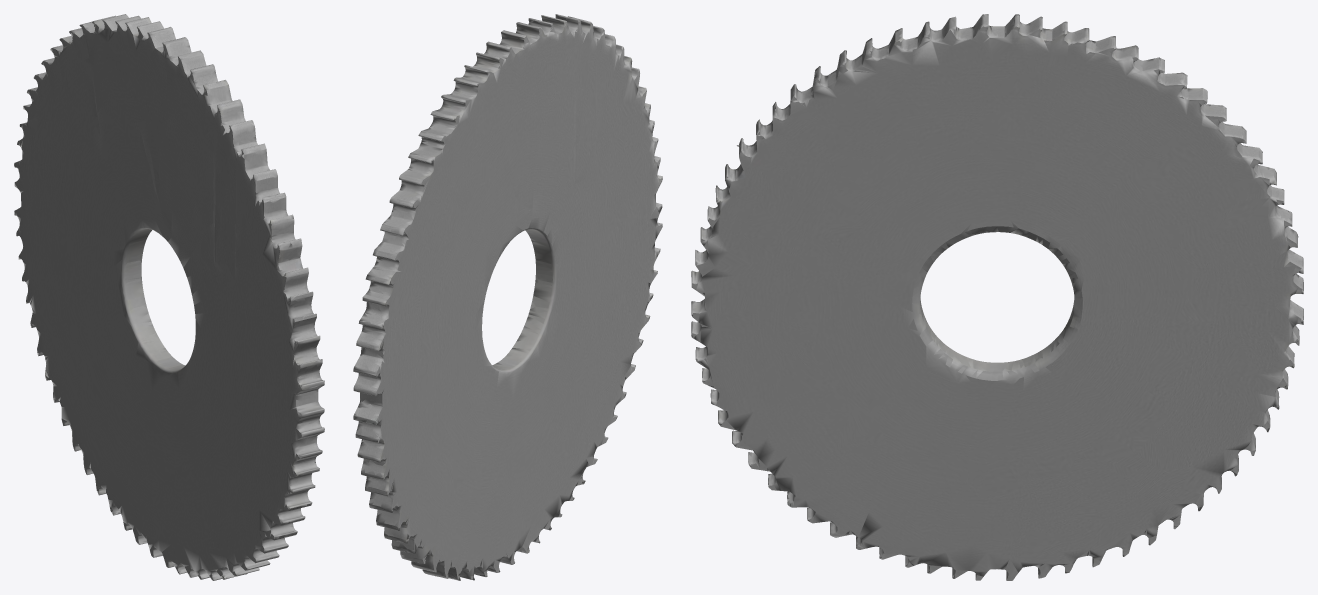
File: tool_151.obj
3 views of the same model, side by side, from view 1: azimuth 30°, elevation 25°; view 2: azimuth 150°, elevation 25°; view 3: azimuth 270°, elevation 25° (orthographic). The views are drawn at different scales.
Parts seen in each view (by area): view 1: tool_151_tripo_normalized; view 2: tool_151_tripo_normalized; view 3: tool_151_tripo_normalized.
Part boxes in pixels (left/top/right/bottom): tool_151_tripo_normalized: left=14, top=14, right=324, bottom=580; tool_151_tripo_normalized: left=353, top=14, right=662, bottom=580; tool_151_tripo_normalized: left=691, top=14, right=1303, bottom=580.
Bounding box in the file's own units: 1.94 × 40.77 × 40.78.
Materials: 1 (1 with a texture image).
